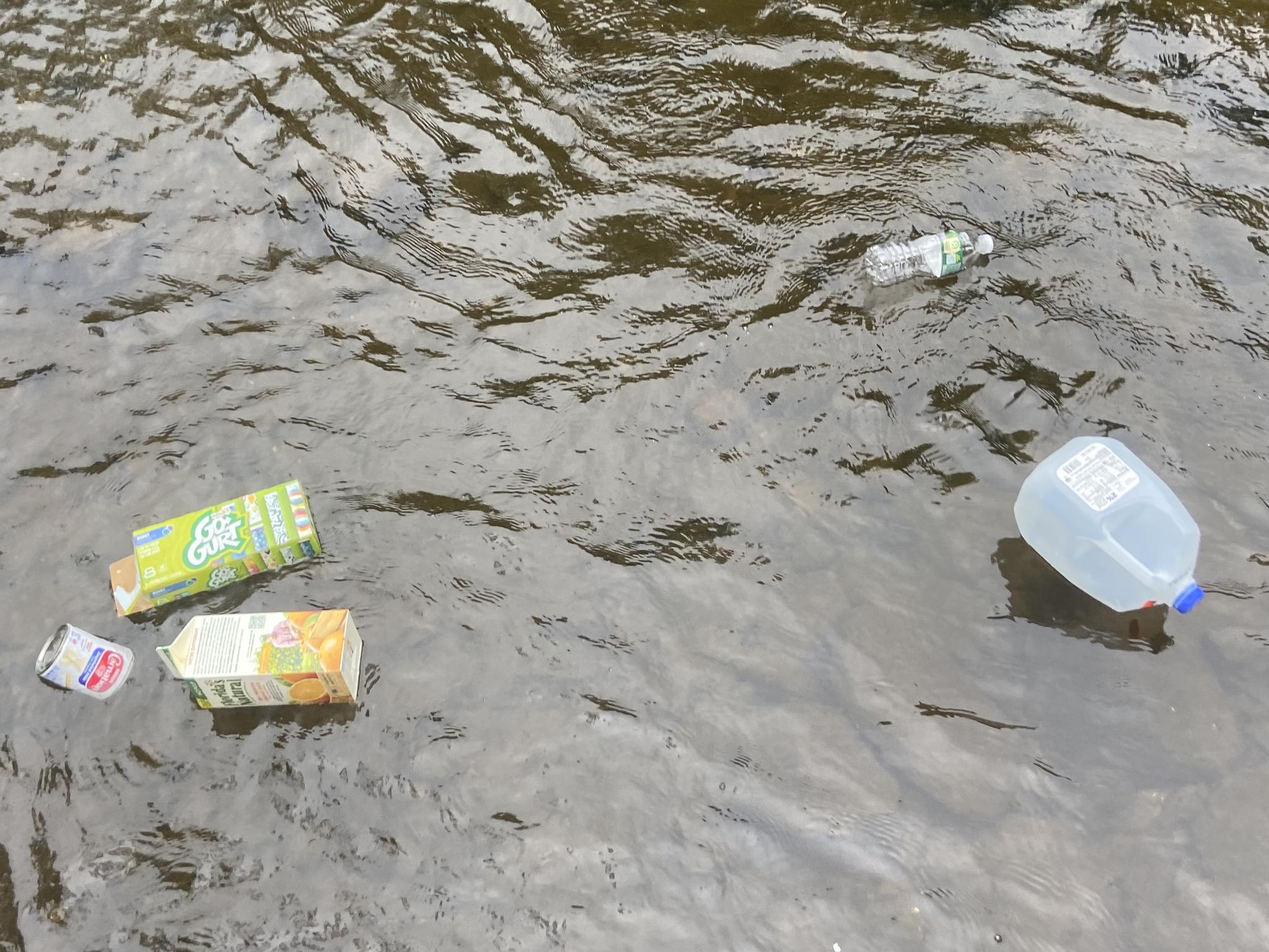cardboard: (100, 471, 334, 638), (138, 604, 376, 722)
metal: (29, 622, 142, 705)
plastic: (1009, 427, 1215, 630), (847, 217, 1009, 290)
